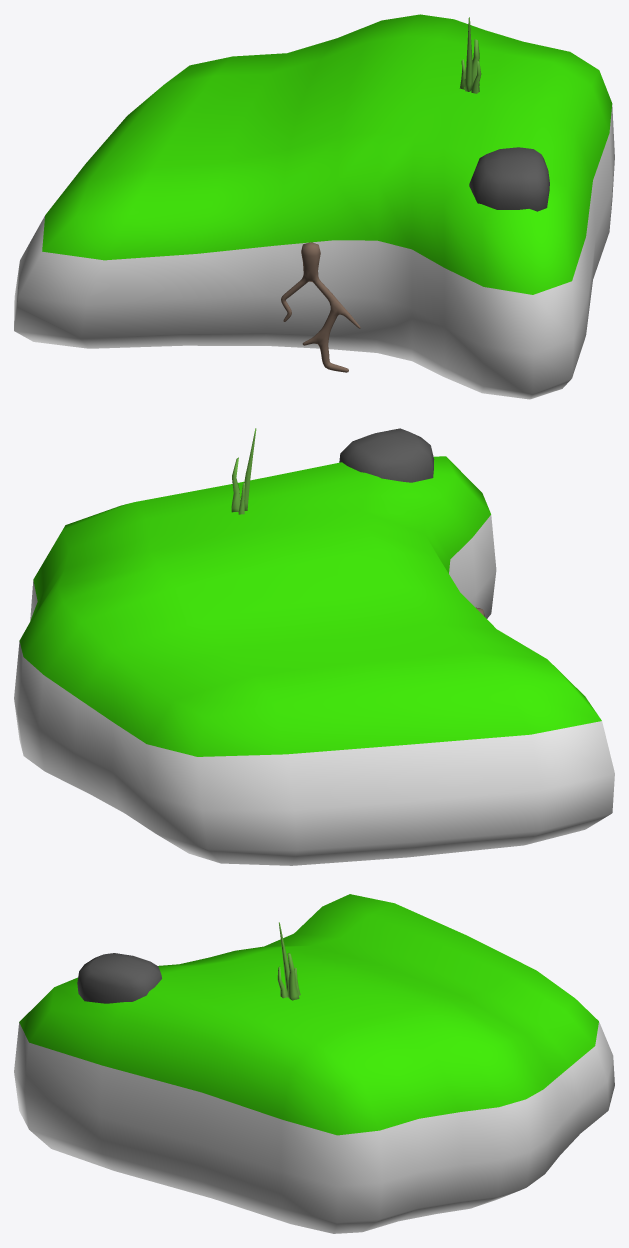
Rendered from plataform.fbx.
The picture shows the model from 3 angles, top to bottom: view 1: azimuth 30°, elevation 25°; view 2: azimuth 150°, elevation 25°; view 3: azimuth 270°, elevation 25°; orthographic projection. The views are drawn at different scales.
Visible parts, largest first — view 1: Plataform; view 2: Plataform; view 3: Plataform.
Part boxes in pixels (x1,y1,x2,y2): Plataform: [14, 14, 614, 399]; Plataform: [14, 428, 614, 865]; Plataform: [14, 894, 614, 1233].
Bounding box in the file's own units: 162 × 75.78 × 161.
